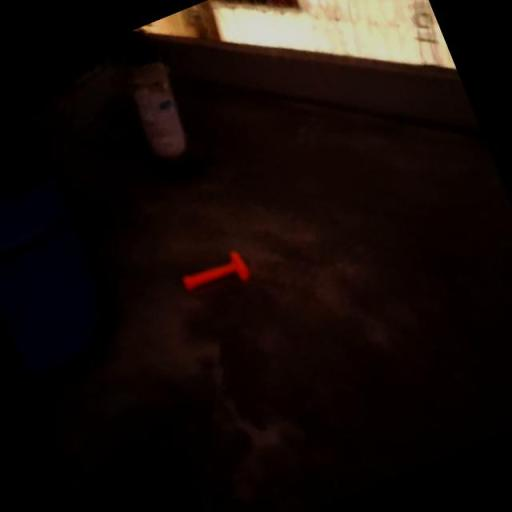mallet: (180, 250, 250, 303)
